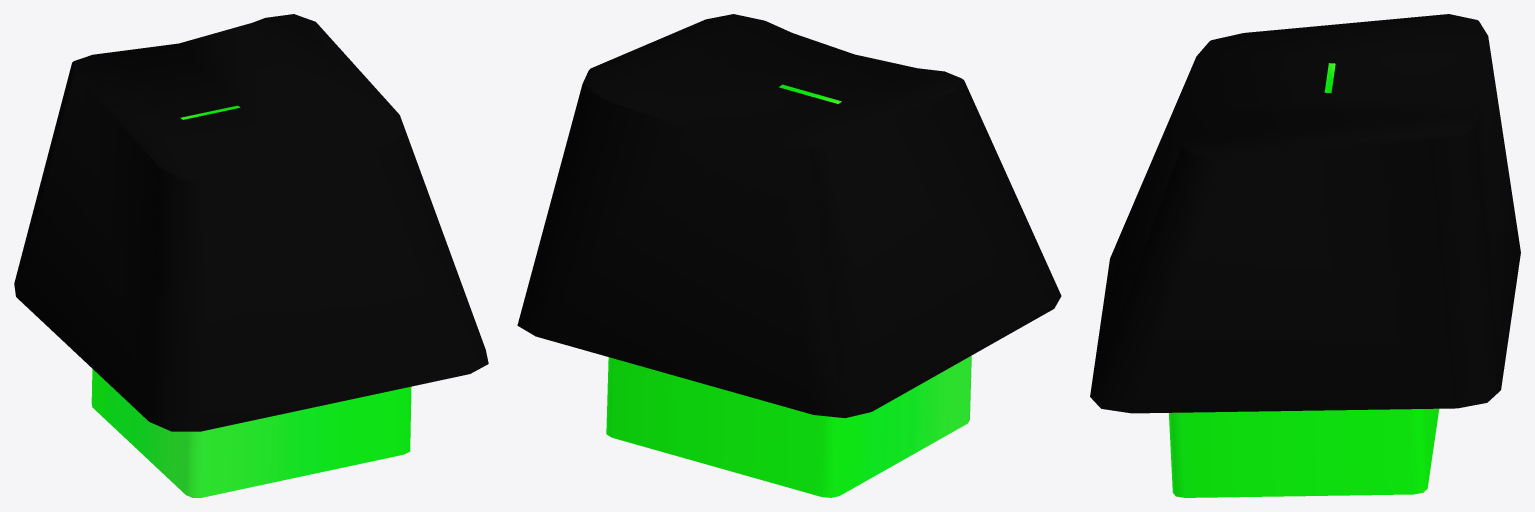
Rendered from key_1-BanBFLtR.glb.
3 views of the same model, side by side, from view 1: azimuth 30°, elevation 25°; view 2: azimuth 150°, elevation 25°; view 3: azimuth 270°, elevation 25° (orthographic). The views are drawn at different scales.
Parts seen in each view (by area): view 1: StudyShelf_710; view 2: StudyShelf_710; view 3: StudyShelf_710.
Part boxes in pixels (x1,y1,x2,y2): StudyShelf_710: [14, 14, 488, 497]; StudyShelf_710: [517, 14, 1061, 497]; StudyShelf_710: [1090, 14, 1520, 497].
Bounding box in the file's own units: 4.35 × 4.14 × 4.35.
2 materials, 1 textured.
